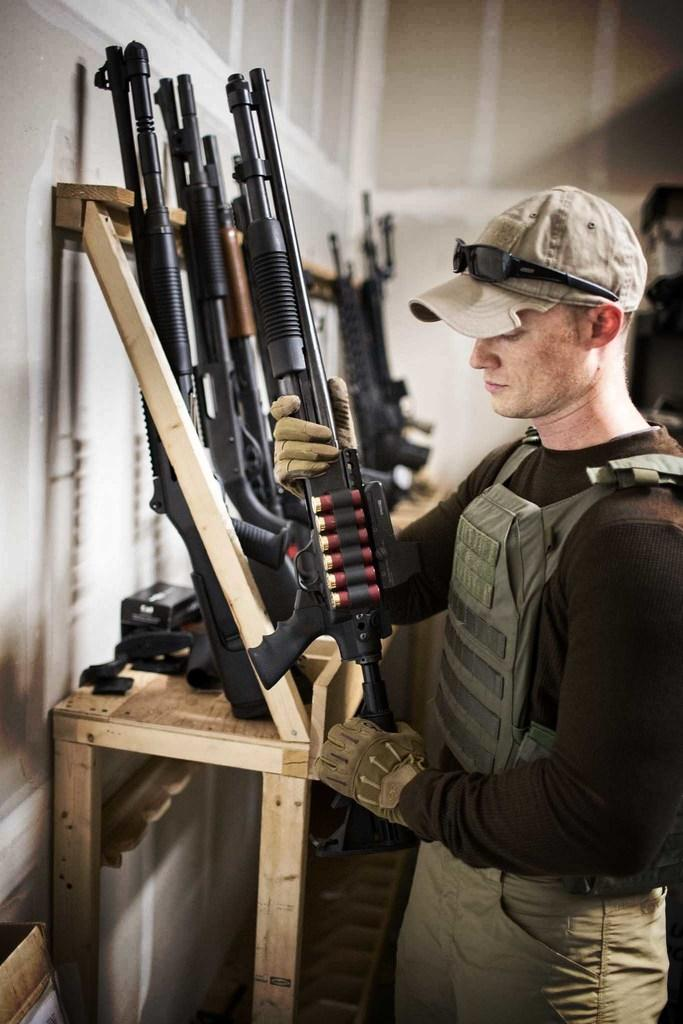Rifle: (225, 65, 437, 866), (95, 38, 306, 721), (149, 70, 304, 577), (326, 189, 431, 511)
